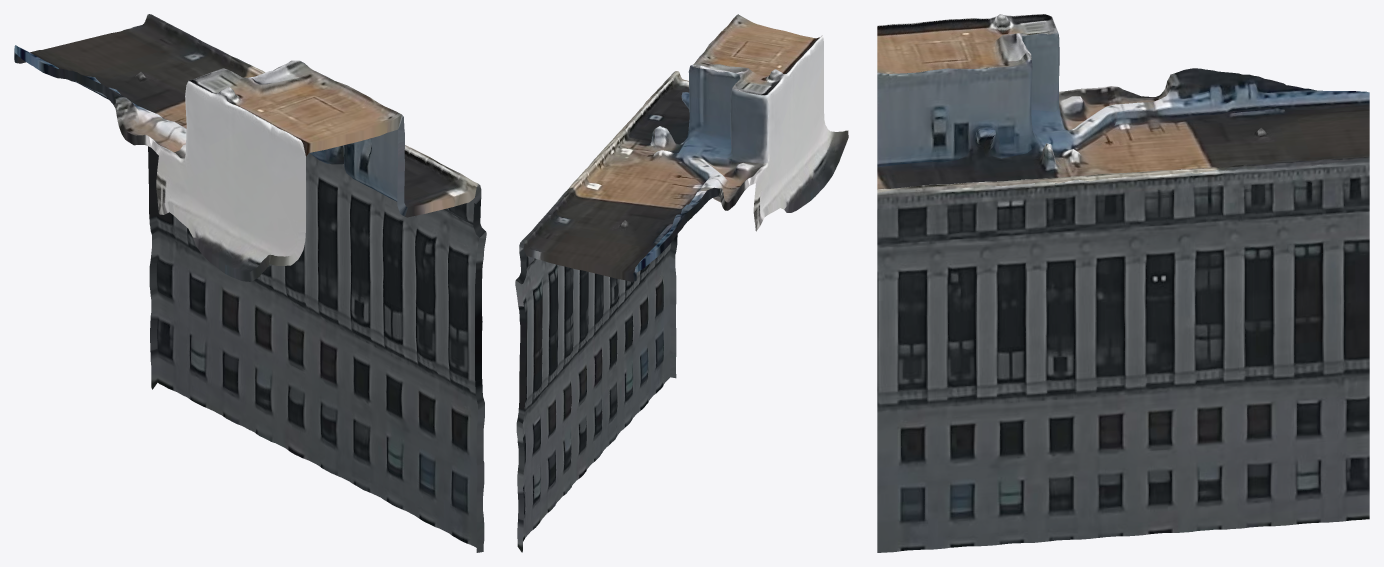
Rendered from z20-167768-405234-h1-yup-uvflip-v3-world.glb.
3 renders of one model, left to right at view 1: azimuth 30°, elevation 25°; view 2: azimuth 150°, elevation 25°; view 3: azimuth 270°, elevation 25°, orthographic. The views are drawn at different scales.
Size of the model in its own units: 14.92 by 30.88 by 30.32.
Materials: 1 (1 with a texture image).
